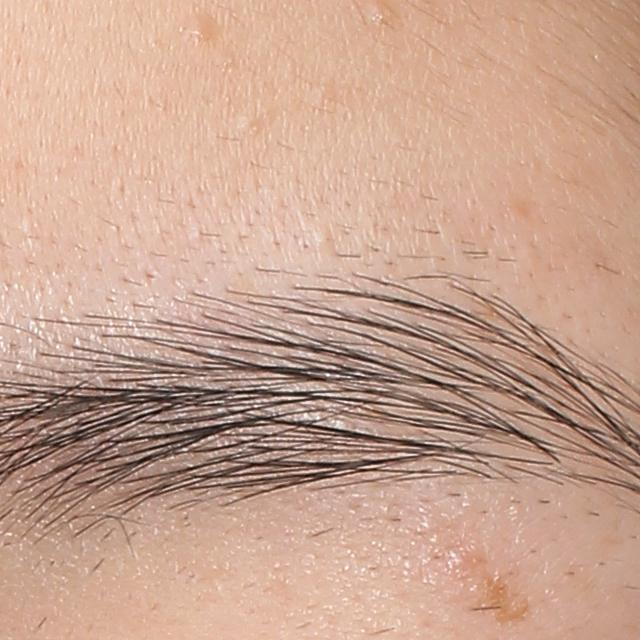comedo: (180, 14, 219, 46), (233, 110, 266, 138)
melasma: (485, 569, 532, 629)
